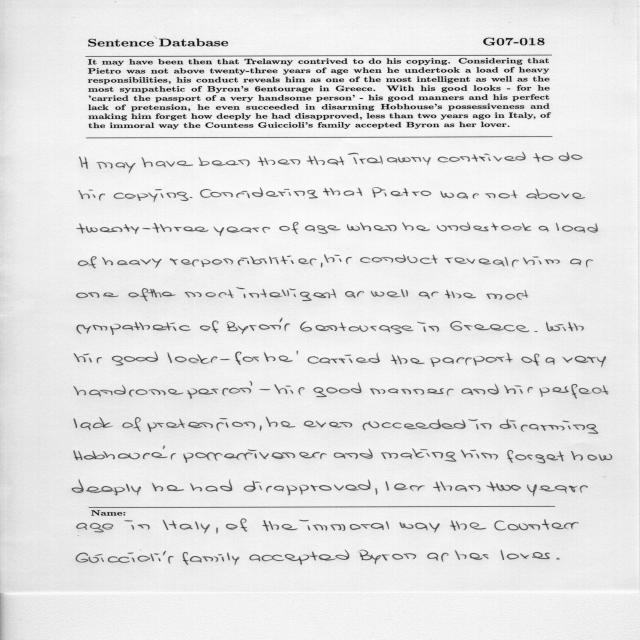word: (244, 480, 371, 496), (183, 449, 327, 463), (170, 256, 317, 267), (148, 418, 256, 432), (500, 419, 599, 434), (77, 322, 191, 335), (77, 223, 209, 234), (74, 446, 176, 460), (227, 318, 312, 334), (74, 385, 183, 397), (236, 288, 336, 301), (200, 188, 318, 199), (430, 352, 513, 367), (316, 322, 414, 334), (72, 479, 141, 496), (362, 419, 466, 430), (381, 448, 456, 462), (540, 384, 609, 399), (348, 153, 431, 165), (114, 189, 189, 202), (438, 152, 526, 162), (450, 321, 529, 332), (437, 222, 531, 231), (307, 353, 380, 364), (360, 254, 438, 264), (507, 450, 564, 463), (445, 257, 519, 267), (527, 485, 588, 497), (314, 382, 362, 397), (187, 388, 251, 399), (112, 351, 158, 366), (370, 388, 454, 396), (102, 257, 162, 268), (372, 187, 431, 198), (128, 288, 176, 301), (168, 352, 218, 364), (527, 189, 586, 199), (190, 479, 232, 492), (141, 157, 193, 167), (433, 481, 480, 492), (74, 417, 113, 430), (214, 227, 270, 236), (562, 356, 606, 367), (199, 158, 250, 167), (461, 383, 499, 395), (347, 223, 397, 232), (97, 162, 136, 173), (334, 448, 373, 459), (556, 223, 598, 233), (487, 290, 529, 300), (571, 451, 612, 461), (185, 290, 234, 298), (386, 481, 425, 491), (546, 322, 584, 332), (258, 157, 300, 166), (461, 450, 498, 460), (486, 482, 521, 492), (303, 421, 352, 428), (307, 156, 345, 165), (391, 355, 425, 365), (235, 351, 259, 365), (523, 256, 560, 265), (371, 289, 408, 298), (275, 384, 305, 395), (266, 417, 295, 428), (305, 225, 340, 234), (323, 188, 362, 196), (440, 191, 479, 199), (79, 190, 105, 201), (122, 417, 141, 432), (324, 255, 352, 265), (74, 354, 102, 364), (264, 352, 292, 362), (468, 419, 492, 430), (504, 385, 533, 394), (485, 190, 517, 198), (152, 483, 184, 491), (402, 222, 430, 231), (445, 290, 476, 298), (200, 321, 218, 334), (522, 353, 540, 366), (280, 222, 299, 234), (417, 322, 439, 332), (559, 152, 583, 161), (79, 257, 97, 269), (570, 259, 593, 268), (533, 153, 553, 162), (419, 291, 438, 299), (77, 292, 100, 298), (345, 291, 364, 298), (80, 156, 89, 169), (103, 292, 119, 297), (545, 357, 555, 365), (539, 226, 549, 232), (250, 381, 253, 386), (376, 488, 378, 495), (260, 425, 262, 431), (260, 389, 271, 390), (321, 263, 323, 268), (220, 359, 230, 360), (534, 331, 538, 332), (190, 197, 193, 198), (297, 351, 298, 354)
